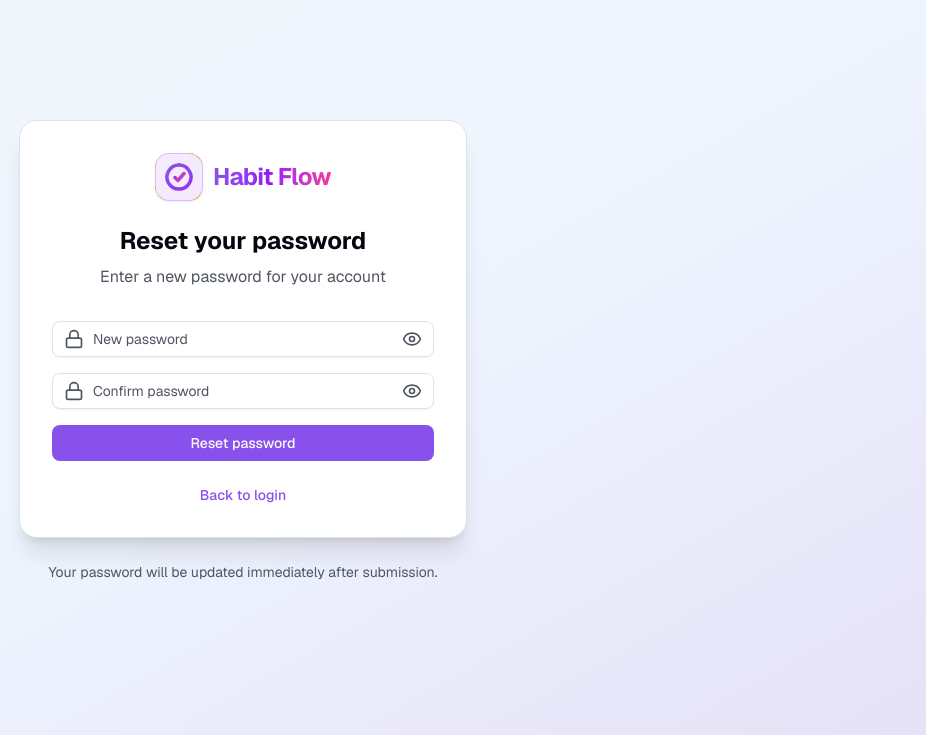
ResetPasswordPage — form validation › shows password requirements checklist when the user starts typing
The width and height of the screenshot is (926, 735).
Type "abc" into the password field with placeholder "New password" at x=243, y=339, box [52,321,434,357]
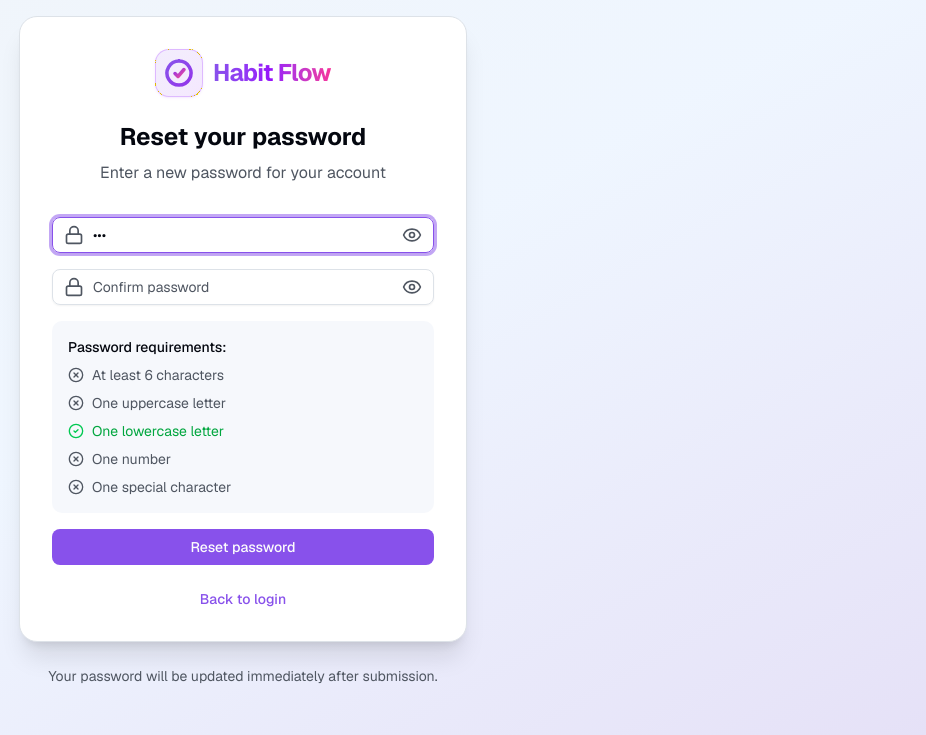
Now the text "At least 6 characters" is shown, box [92,365,224,385]
Now the text "One uppercase letter" is shown, box [92,393,226,413]
